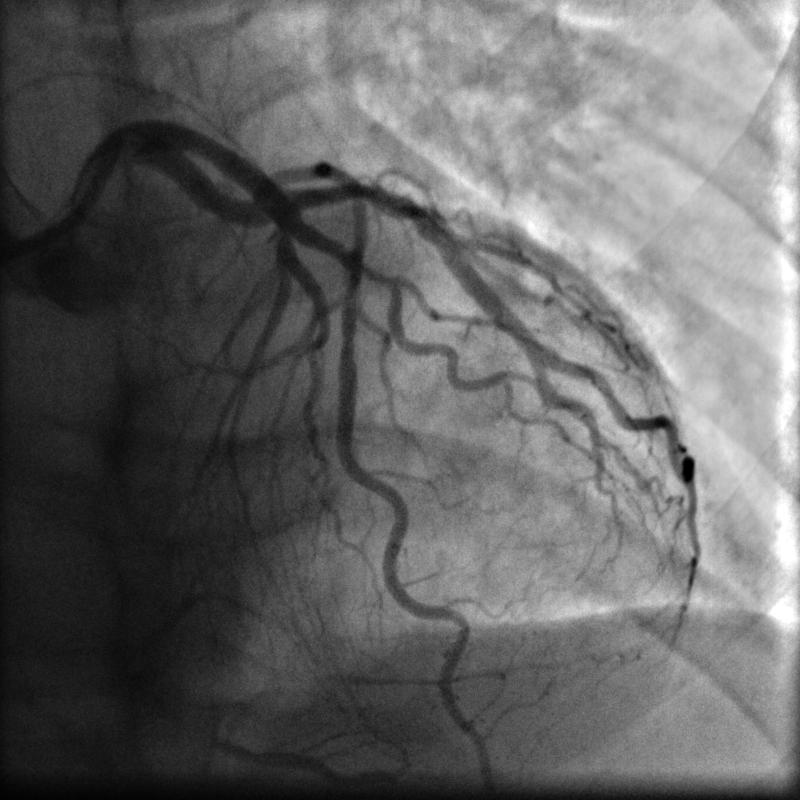Stenosis: (338, 267, 366, 343)
